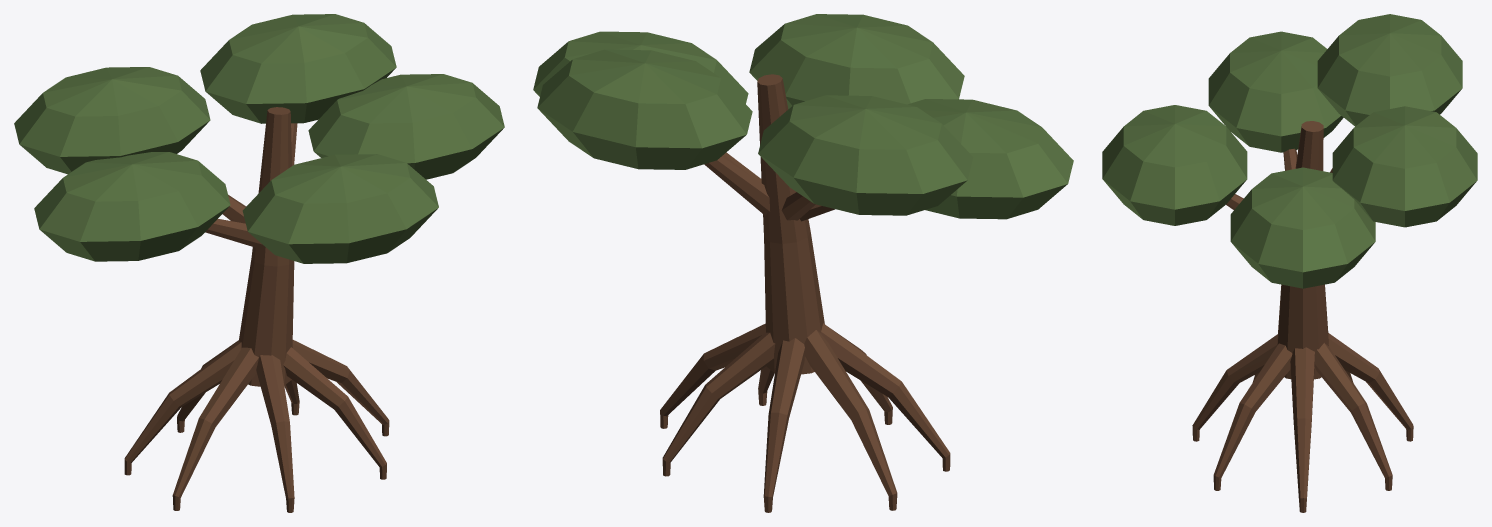
Rendered from Plant_Feature_Lakeside_StiltRootTree_001.glb.
3 views of the same model, side by side, from view 1: azimuth 30°, elevation 25°; view 2: azimuth 150°, elevation 25°; view 3: azimuth 270°, elevation 25° (orthographic). The views are drawn at different scales.
Visible parts, largest first — view 1: Plant_Feature_Lakeside_StiltRootTree_001; view 2: Plant_Feature_Lakeside_StiltRootTree_001; view 3: Plant_Feature_Lakeside_StiltRootTree_001.
Boxes of the visible parts, box(x1,y1,x2,y2) form: Plant_Feature_Lakeside_StiltRootTree_001: box(14, 14, 504, 512); Plant_Feature_Lakeside_StiltRootTree_001: box(533, 14, 1073, 512); Plant_Feature_Lakeside_StiltRootTree_001: box(1102, 14, 1477, 512).
Size of the model in its own units: 5.58 by 4.28 by 3.94.
